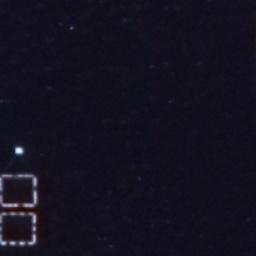square_solid: (1, 172, 39, 210), (1, 210, 39, 247)
